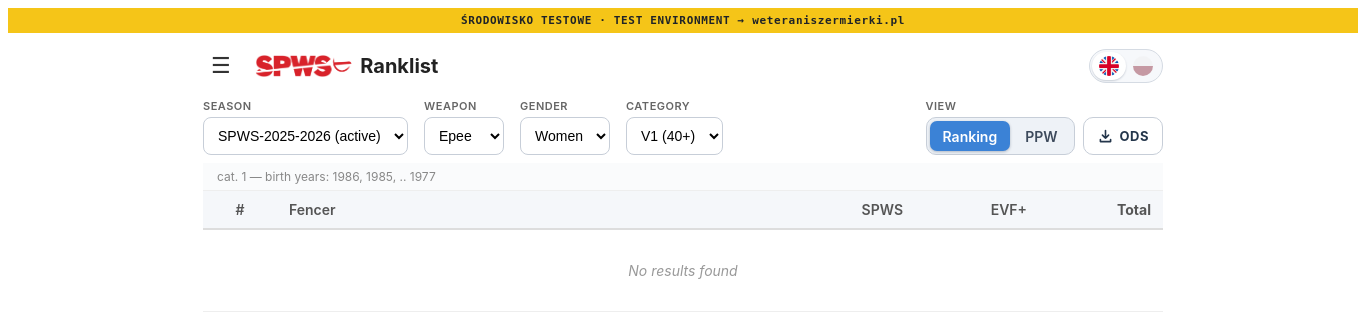
Test: SS26.UIHIST — publication boundary and staleness › a PPW_ONLY season forces PPW and hides the switch regardless of the config flag
Expected: the number of buttons with class "toggle-btn" is 2, left=930, top=121, right=1010, bottom=151; left=1012, top=121, right=1070, bottom=151
Select "SPWS-2024-2025" in the dropdown with class "season-select": (306, 136) left=203, top=117, right=408, bottom=155
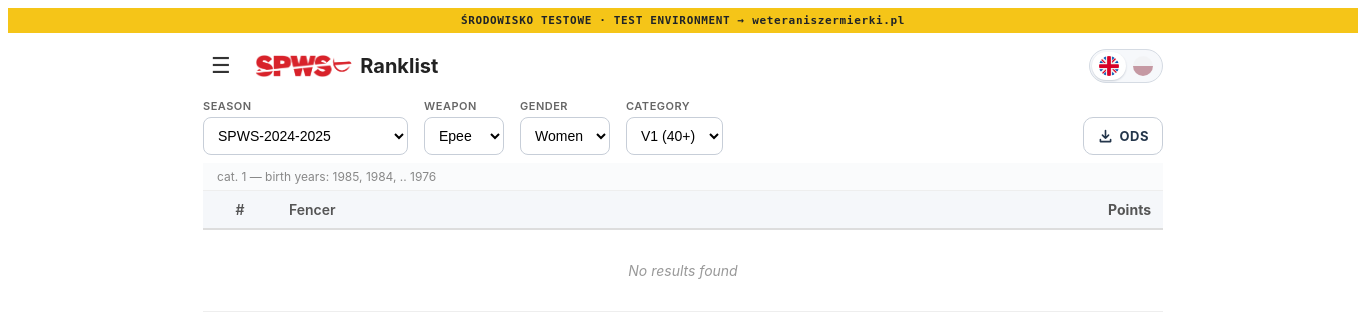
Result: no buttons with class "toggle-btn" are shown
